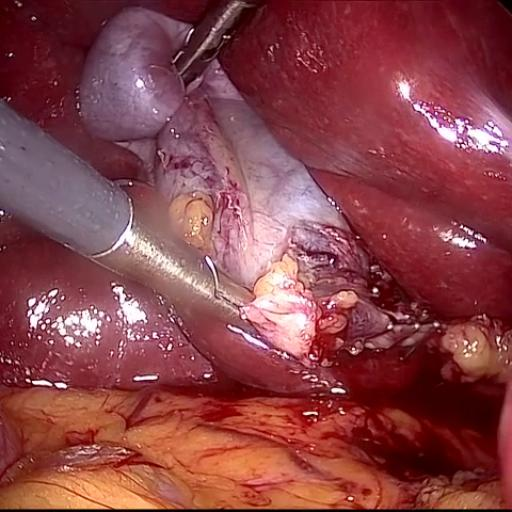Grasper: (89, 162, 311, 392), (132, 0, 322, 132)
